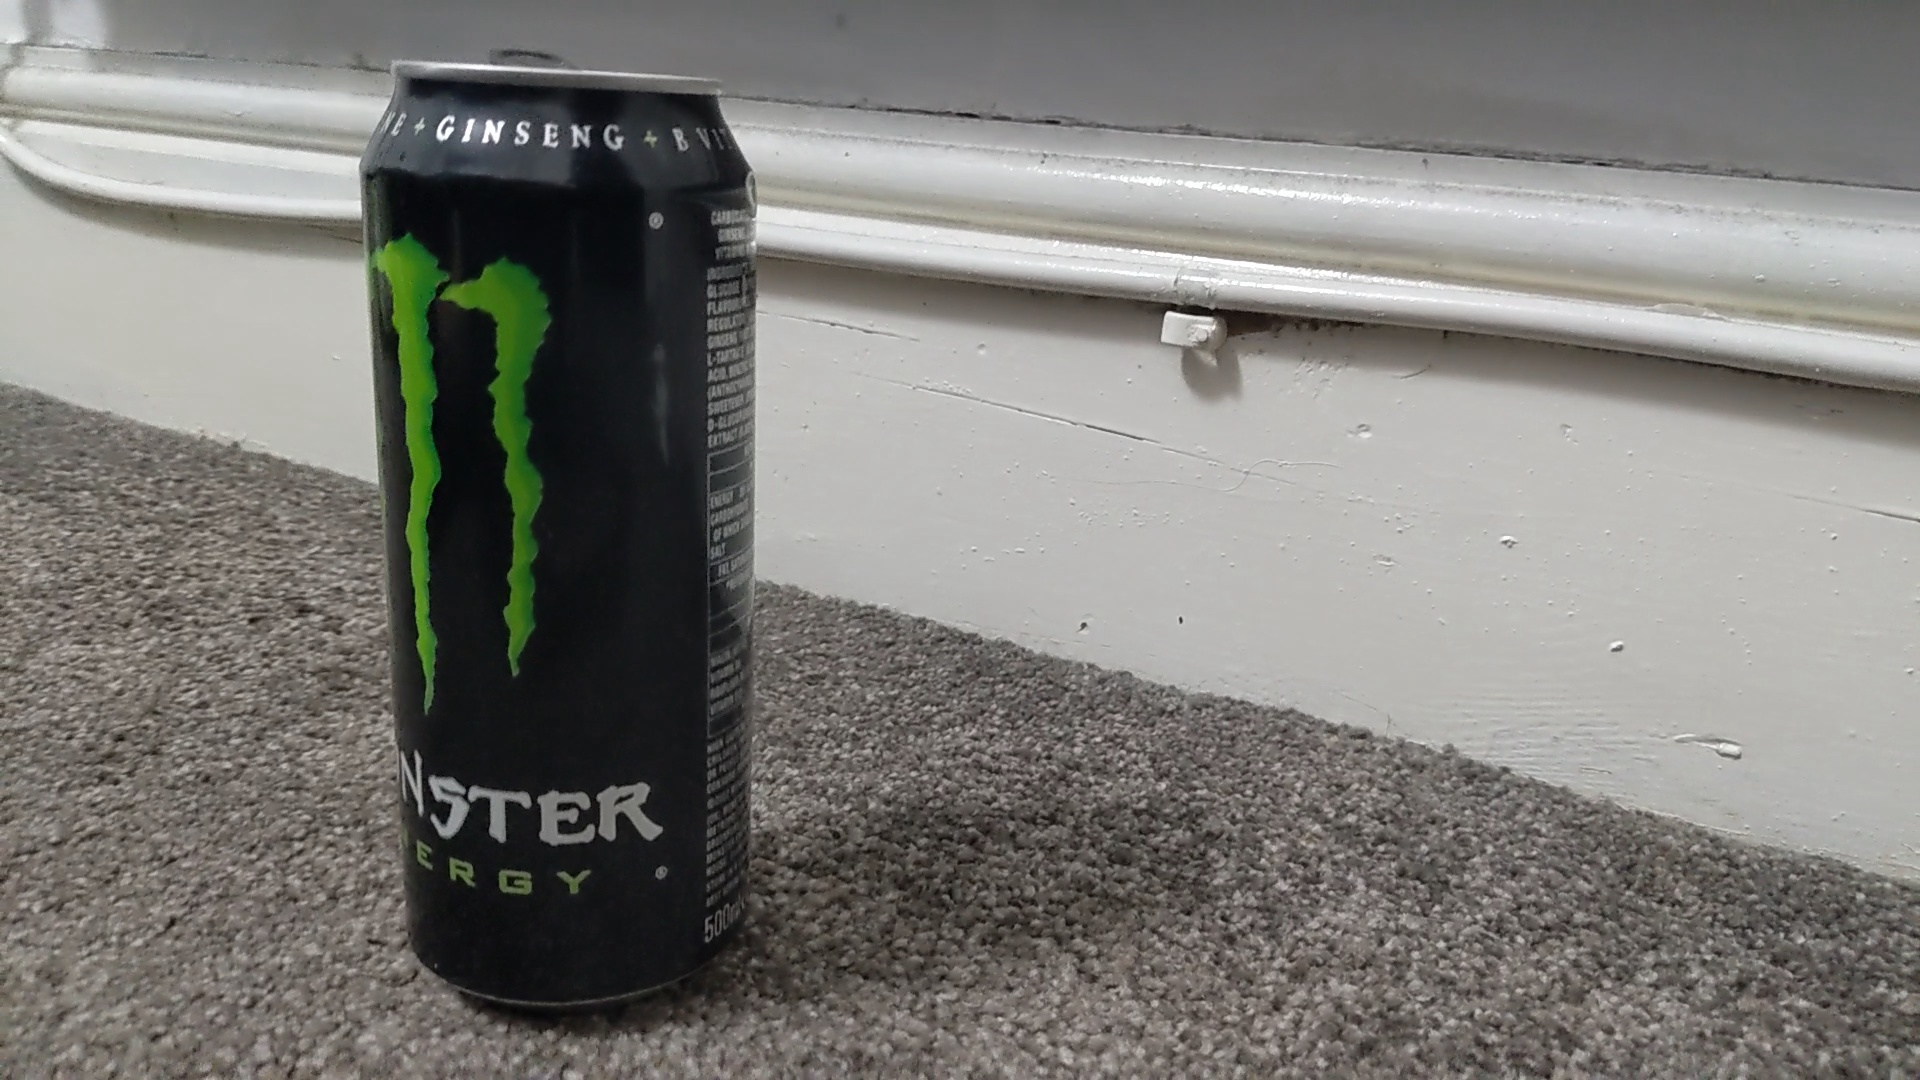monster-original: (357, 57, 760, 1006)
